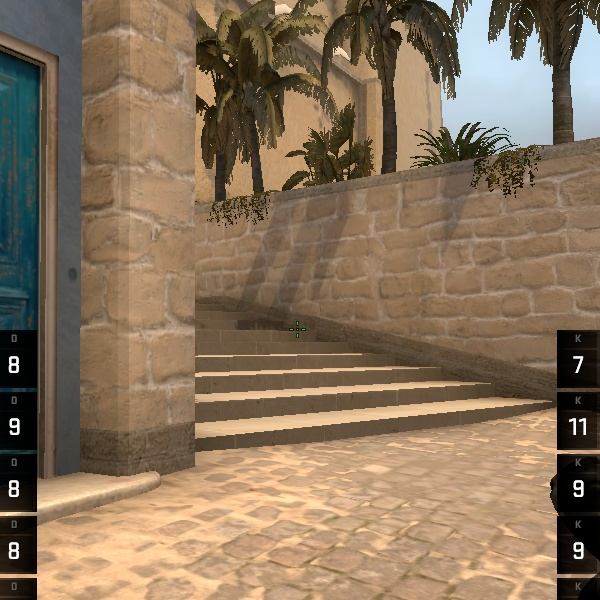t_body: (494, 0, 544, 59)
